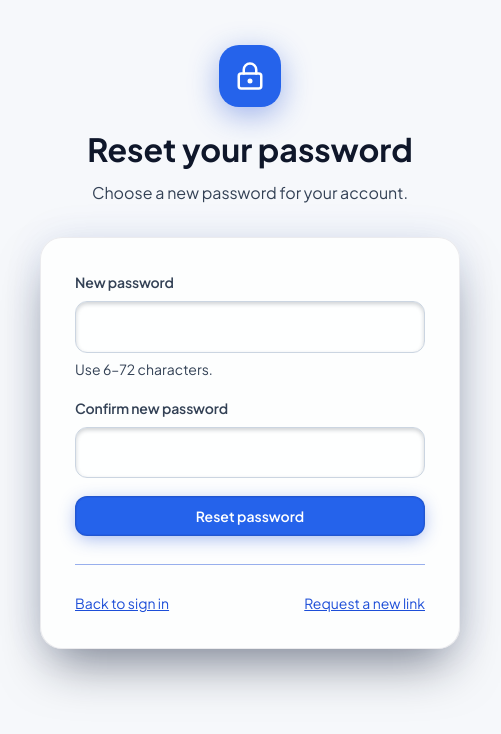
expired token error stays visible
The width and height of the screenshot is (501, 734).
In the password field with id "new-password": {"x": 250, "y": 327} top-left (75, 301), bottom-right (425, 352), type "new-password"
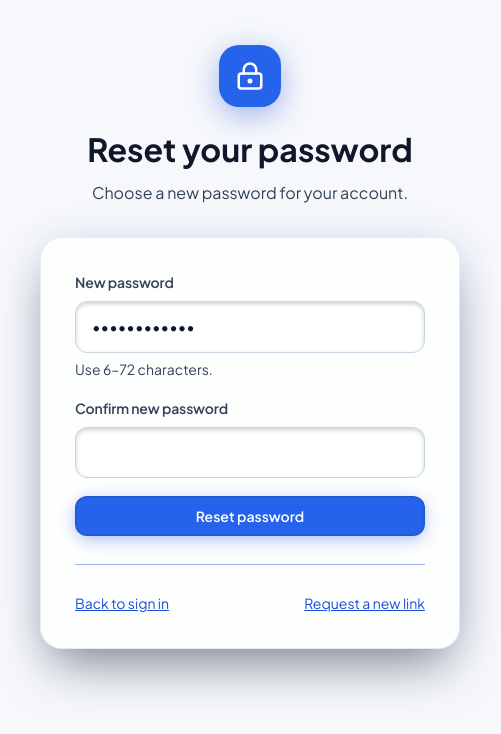
In the password field with id "confirm-password": {"x": 250, "y": 452} top-left (75, 426), bottom-right (425, 478), type "new-password"
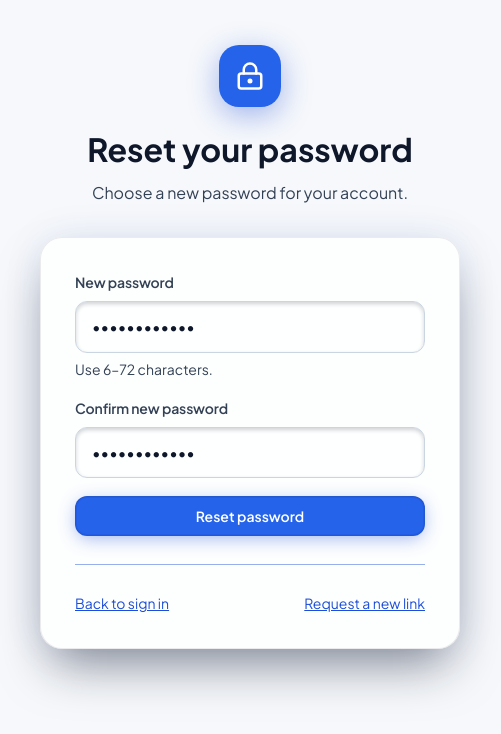
Submit the form, box top-left (75, 272), bottom-right (425, 536)
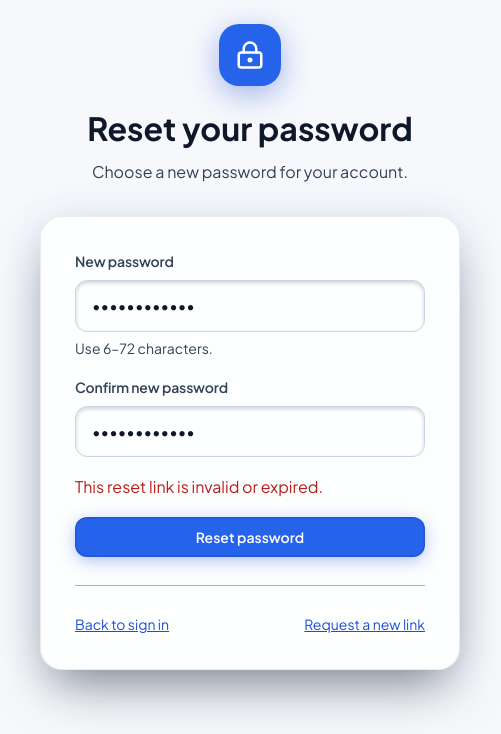
Result: the message "This reset link is invalid or expired." is shown at top-left (75, 476), bottom-right (323, 497)
